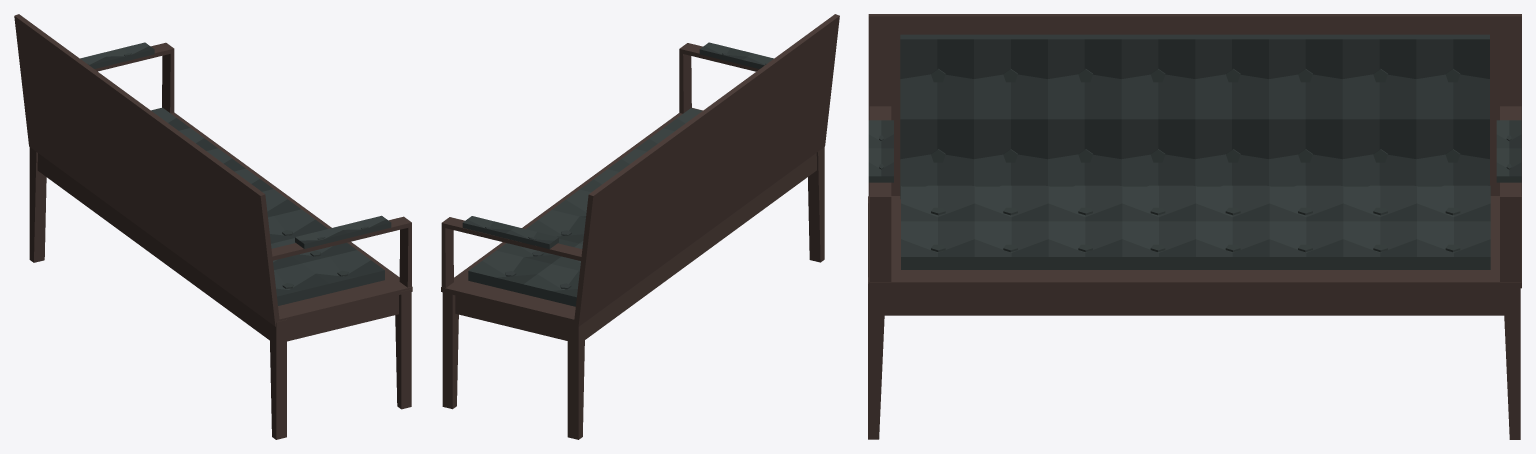
Rendered from Cutebench.fbx.
3 views of the same model, side by side, from view 1: azimuth 30°, elevation 25°; view 2: azimuth 150°, elevation 25°; view 3: azimuth 270°, elevation 25° (orthographic). The views are drawn at different scales.
Parts seen in each view (by area): view 1: Cube.008, Cube.010, Cube.005, Cube, Cube.004, Cube.001, Cube.006, Cube.003, Cylinder.036, Cube.007, Cylinder.043; view 2: Cube.008, Cube.010, Cube.005, Cube, Cube.003, Cube.002, Cube.007, Cube.004, Cylinder.043, Cube.006, Cylinder.036; view 3: Cube.009, Cube.010, Cube.008, Cube.005, Cube, Cube.006, Cube.007, Cube.002, Cube.001, Cylinder.036, Cylinder.043.
Part boxes in pixels (left/top/right/bottom): Cube.008: left=14, top=14, right=279, bottom=326; Cube.010: left=151, top=107, right=384, bottom=305; Cube.005: left=37, top=153, right=398, bottom=341; Cube: left=171, top=112, right=412, bottom=322; Cube.004: left=269, top=319, right=286, bottom=439; Cube.001: left=395, top=289, right=411, bottom=409; Cube.006: left=271, top=216, right=411, bottom=287; Cube.003: left=29, top=147, right=46, bottom=262; Cylinder.036: left=295, top=215, right=391, bottom=248; Cube.007: left=94, top=42, right=174, bottom=113; Cylinder.043: left=80, top=42, right=154, bottom=68; Cube.008: left=574, top=14, right=839, bottom=326; Cube.010: left=468, top=108, right=701, bottom=306; Cube.005: left=455, top=153, right=816, bottom=340; Cube: left=441, top=108, right=702, bottom=325; Cube.003: left=567, top=322, right=585, bottom=439; Cube.002: left=442, top=292, right=458, bottom=409; Cube.007: left=441, top=217, right=582, bottom=287; Cube.004: left=808, top=147, right=824, bottom=262; Cylinder.043: left=462, top=216, right=558, bottom=249; Cube.006: left=679, top=43, right=759, bottom=113; Cylinder.036: left=699, top=42, right=773, bottom=68; Cube.009: left=900, top=34, right=1489, bottom=199; Cube.010: left=901, top=185, right=1490, bottom=269; Cube.008: left=868, top=14, right=1521, bottom=195; Cube.005: left=884, top=288, right=1504, bottom=315; Cube: left=868, top=196, right=1521, bottom=288; Cube.006: left=869, top=106, right=891, bottom=281; Cube.007: left=1500, top=106, right=1521, bottom=281; Cube.002: left=1503, top=288, right=1520, bottom=439; Cube.001: left=868, top=277, right=885, bottom=439; Cylinder.036: left=868, top=120, right=893, bottom=182; Cylinder.043: left=1496, top=120, right=1521, bottom=182.
Bounding box in the file's own units: 236 × 367 × 661.
